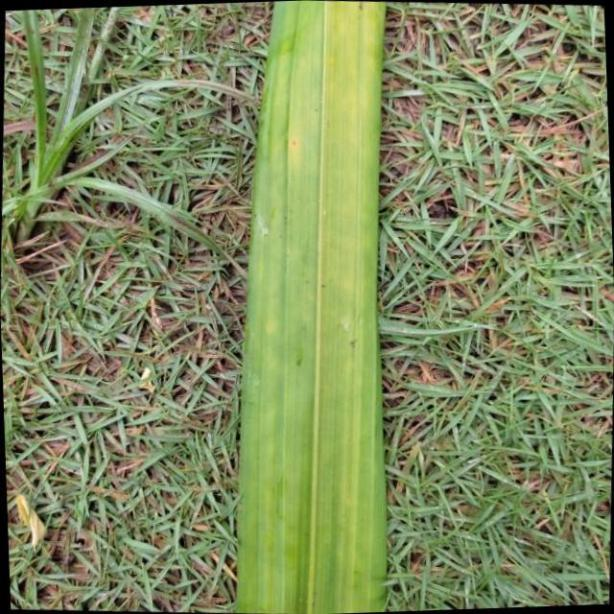nitrogen: (235, 0, 384, 614)
